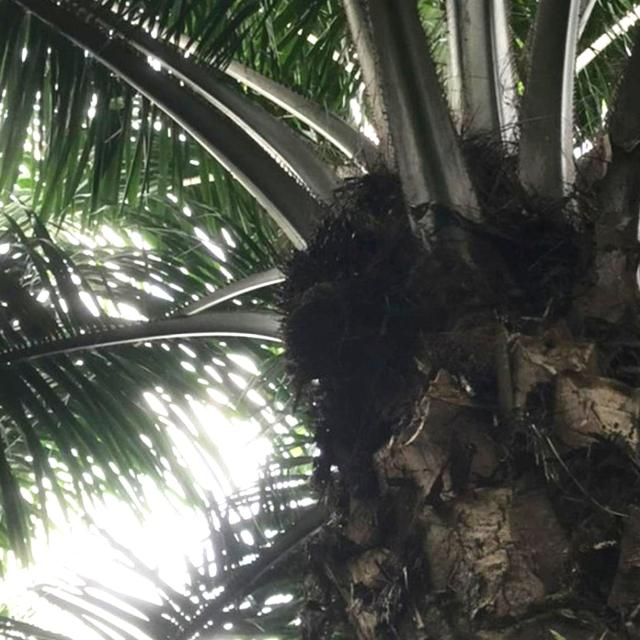unripe: (272, 190, 434, 440)
